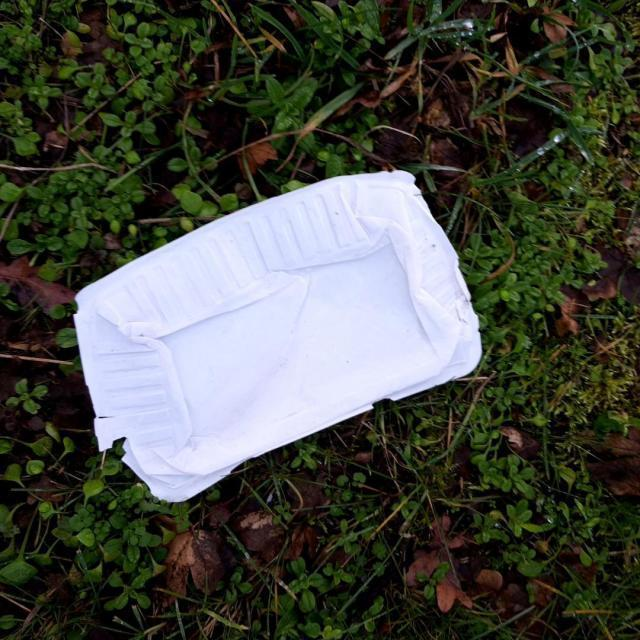Plastic: (69, 164, 485, 506)
